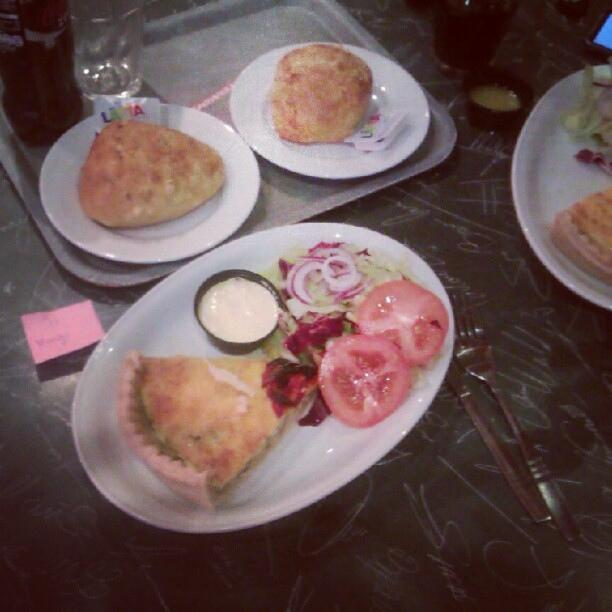lettuce: (561, 66, 612, 148), (357, 248, 428, 295), (282, 312, 347, 358), (256, 326, 280, 361), (258, 258, 283, 289)
onion: (291, 261, 323, 303), (324, 255, 356, 288), (287, 260, 310, 298), (340, 276, 374, 300), (312, 248, 351, 260)
tomato: (318, 333, 410, 427), (355, 279, 449, 364)
